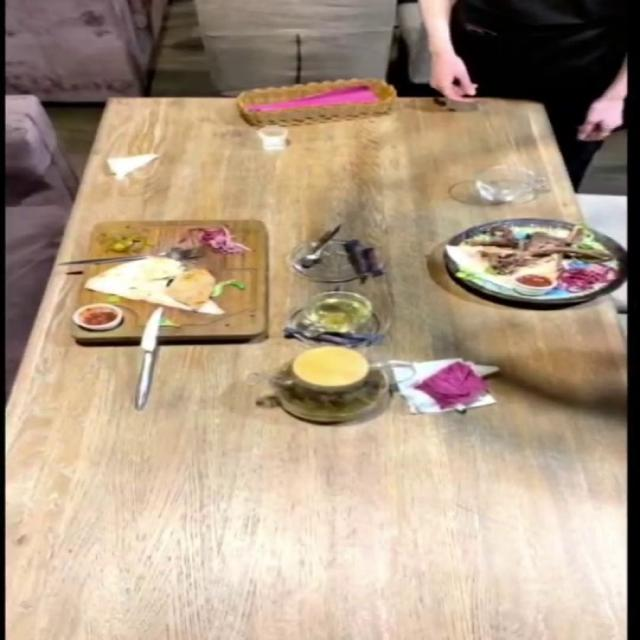meat: (440, 215, 640, 328)
tea: (257, 334, 429, 435)
